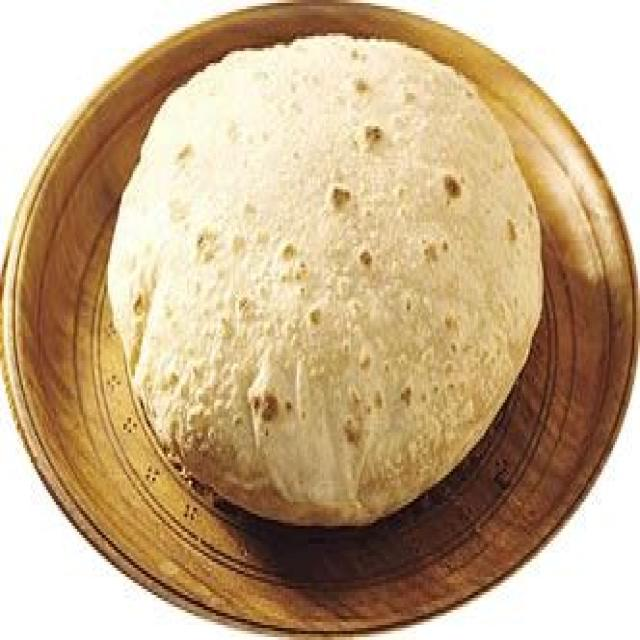ROTI: (102, 36, 536, 520)
